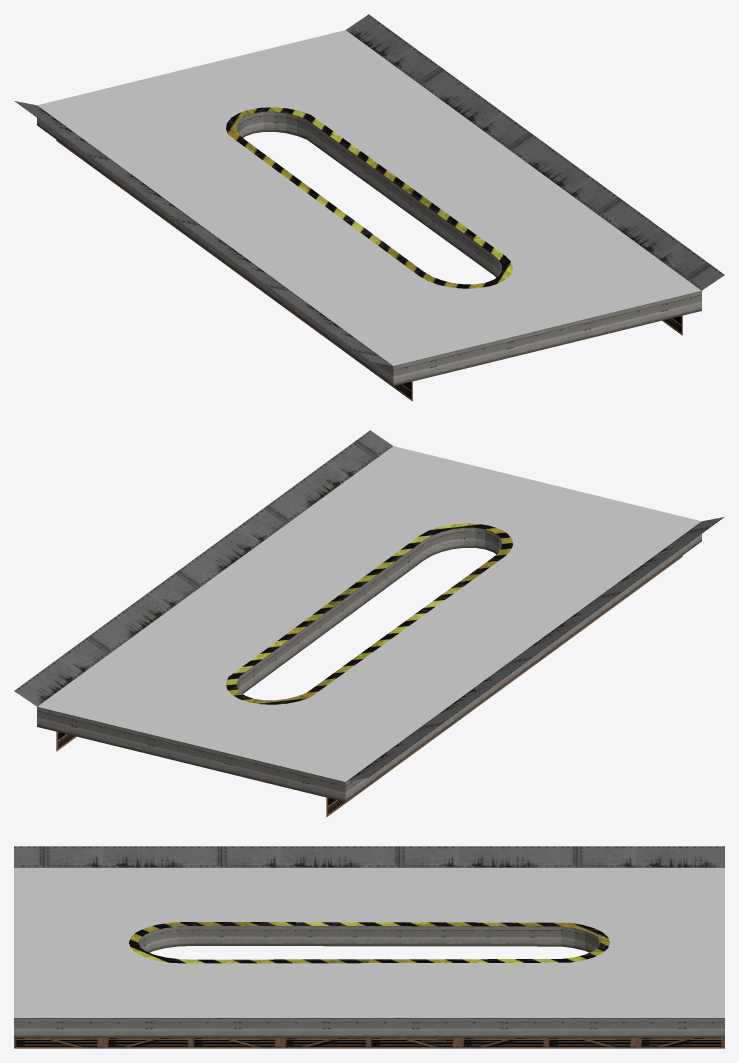
Rendered from Chicane2.fbx.
The picture shows the model from 3 angles, top to bottom: view 1: azimuth 30°, elevation 25°; view 2: azimuth 150°, elevation 25°; view 3: azimuth 270°, elevation 25°; orthographic projection.
Visible parts, largest first — view 1: Empty_Mesh; view 2: Empty_Mesh; view 3: Empty_Mesh.
Part boxes in pixels (x1,y1,x2,y2): Empty_Mesh: (14,14,724,401); Empty_Mesh: (14,430,724,817); Empty_Mesh: (14,846,724,1048).
Bounding box in the file's own units: 18.4 × 2.5 × 32.
